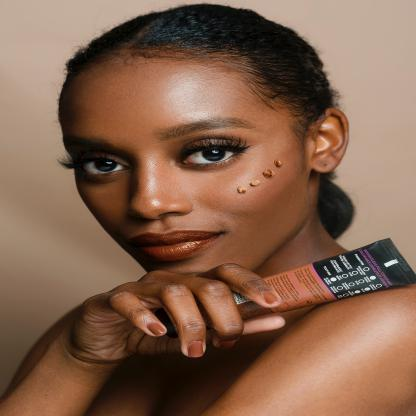Eye: (177, 138, 252, 172), (72, 151, 131, 183)
Mouth: (124, 230, 226, 261)
Nose: (127, 163, 193, 221)
